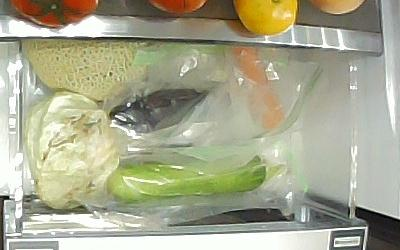cabbage: (25, 91, 119, 211)
carrot_vinyl: (232, 46, 286, 129)
eggplant_vinyl: (109, 87, 209, 133)
melon: (22, 39, 152, 100)
zucchini_vinyl: (107, 156, 291, 203)
